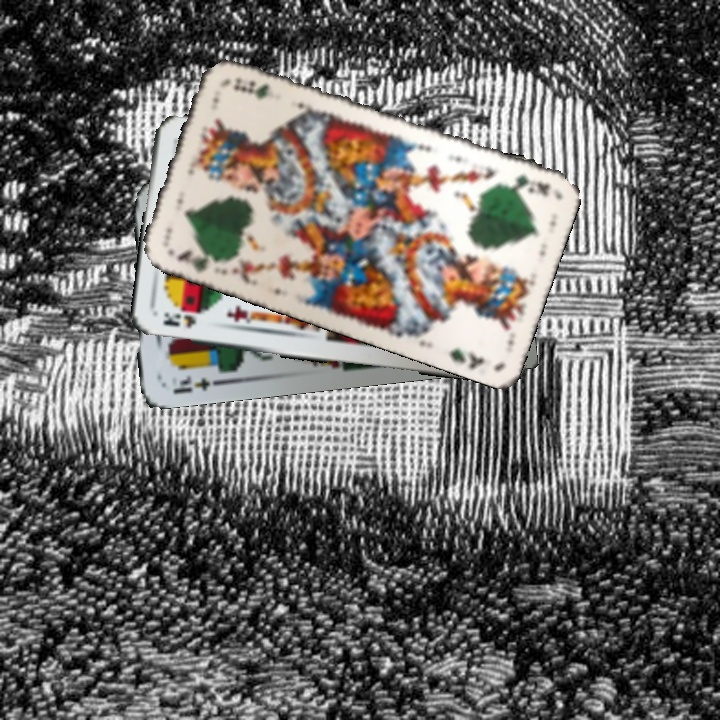EK: (169, 371, 222, 397)
GK: (172, 246, 225, 275), (508, 170, 553, 199)
SK: (159, 308, 198, 331)
